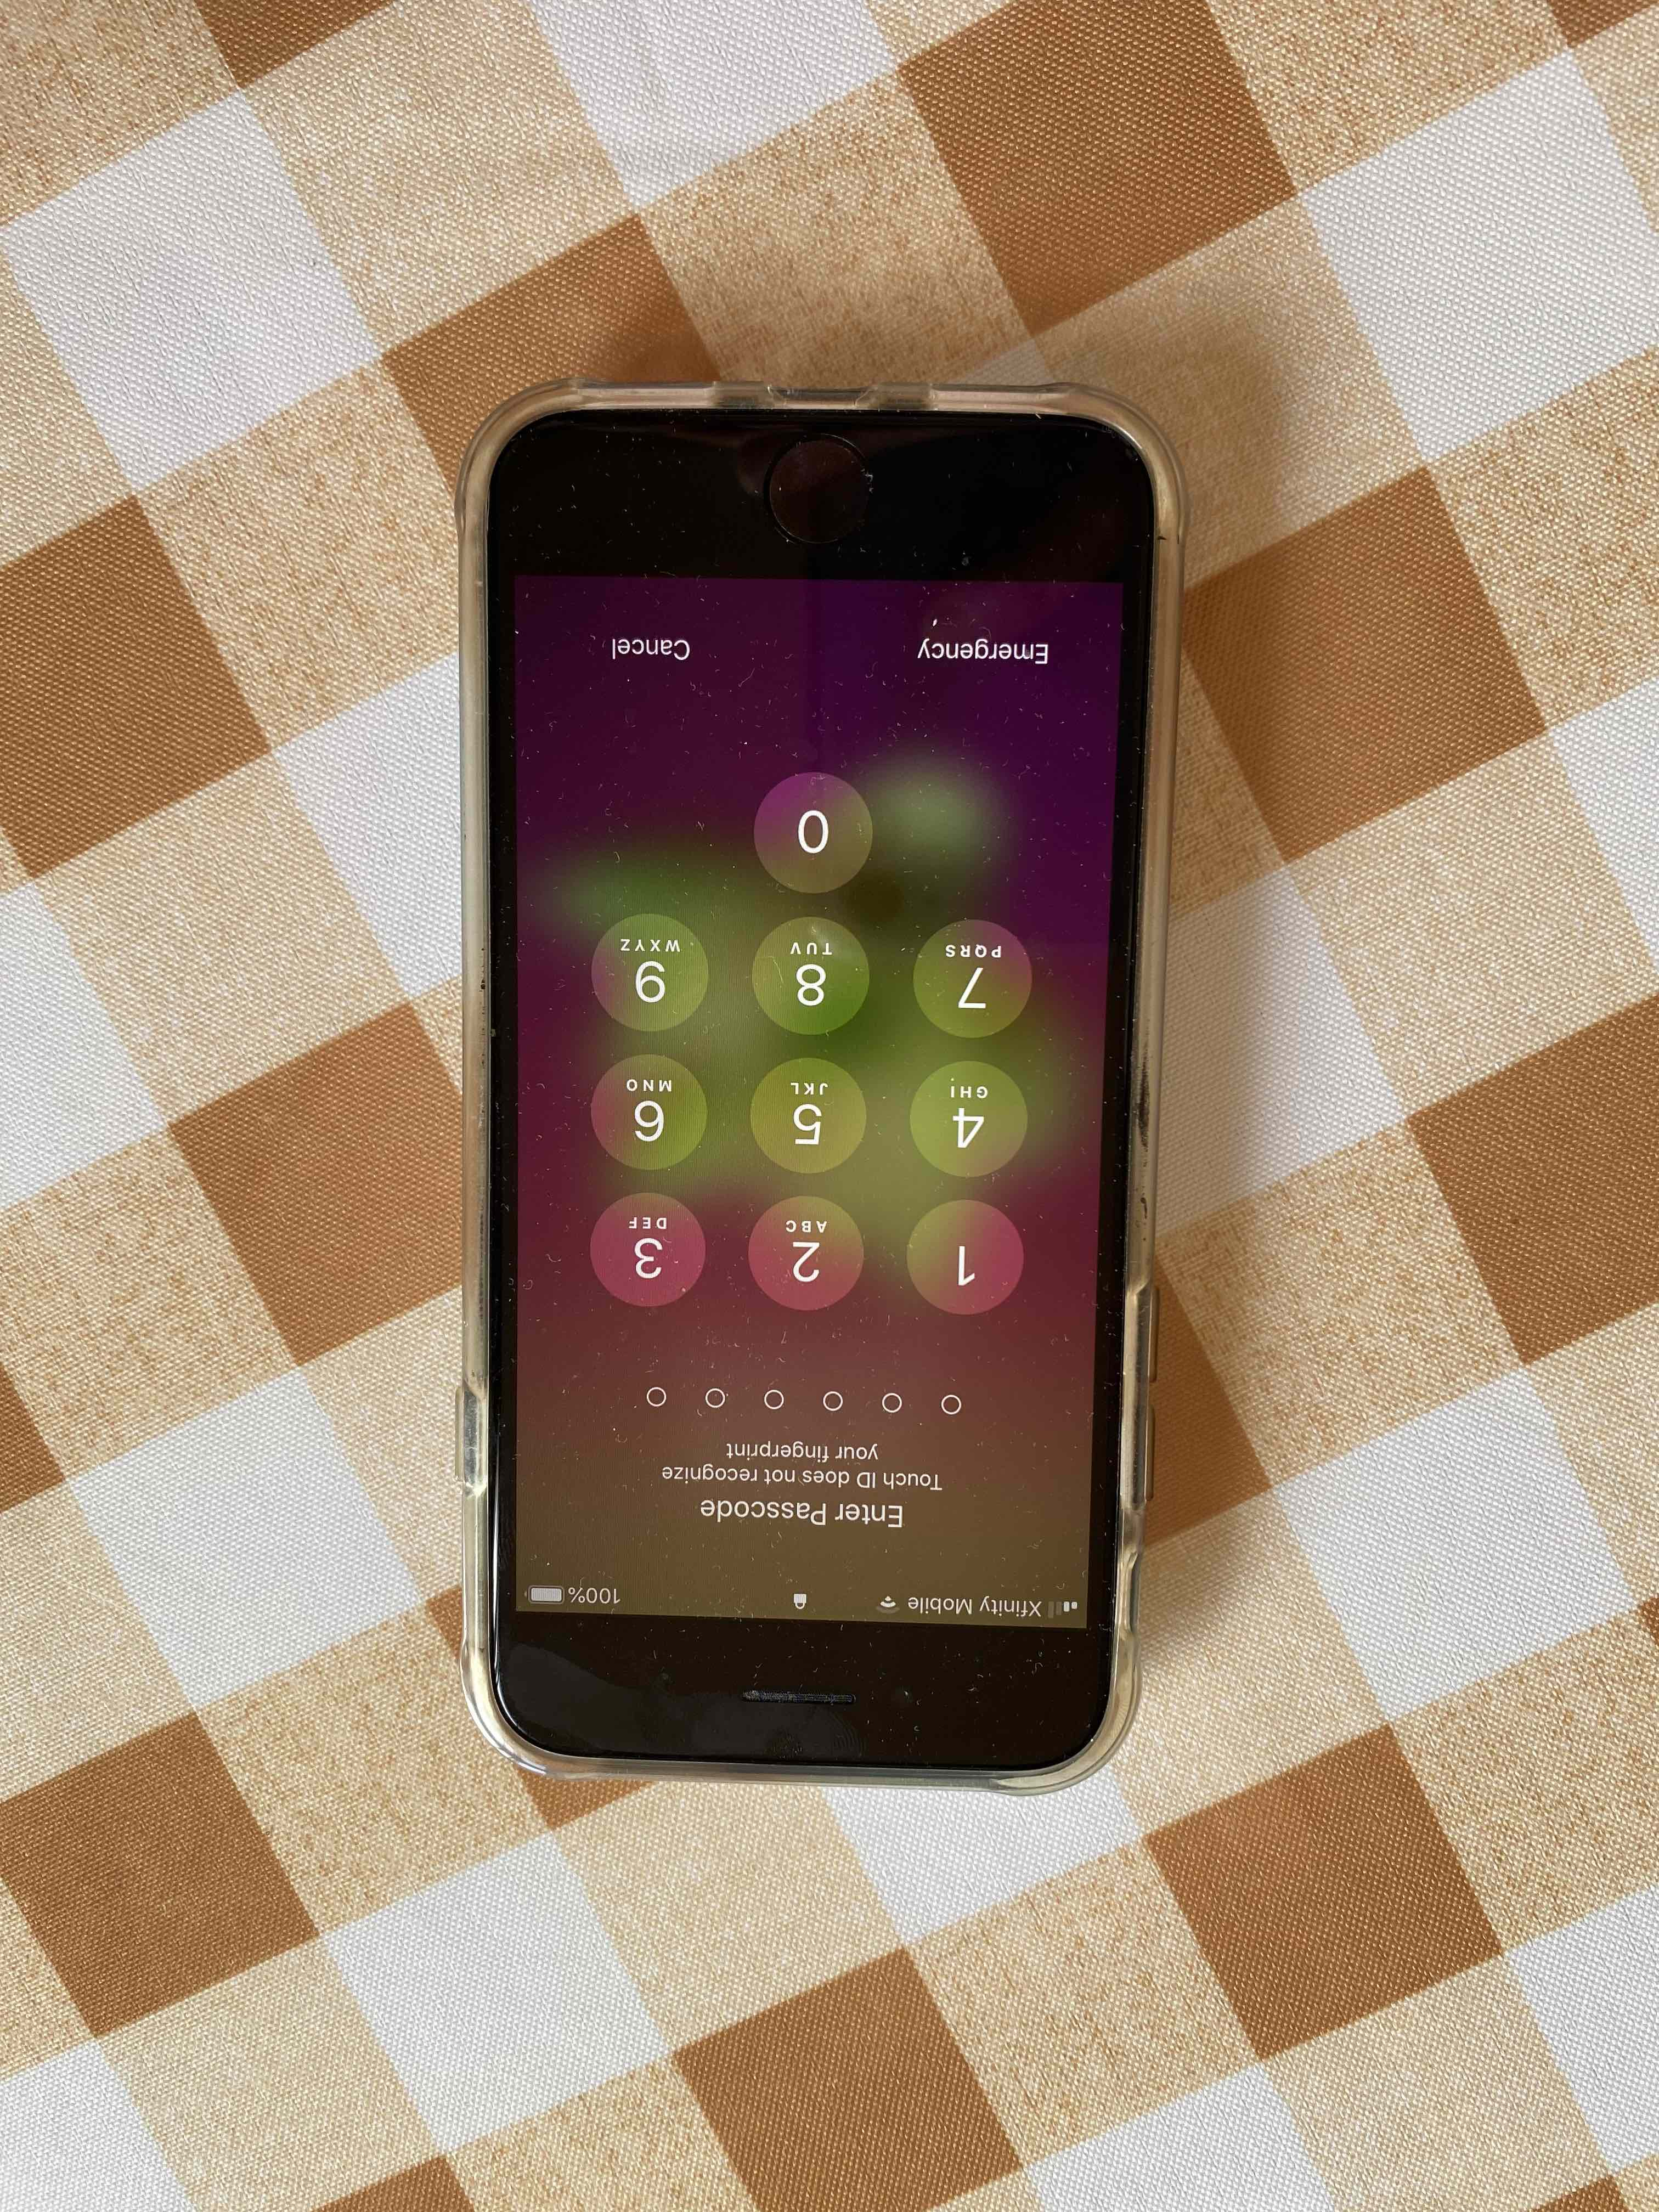Cell Phone: (464, 374, 1133, 1804)
